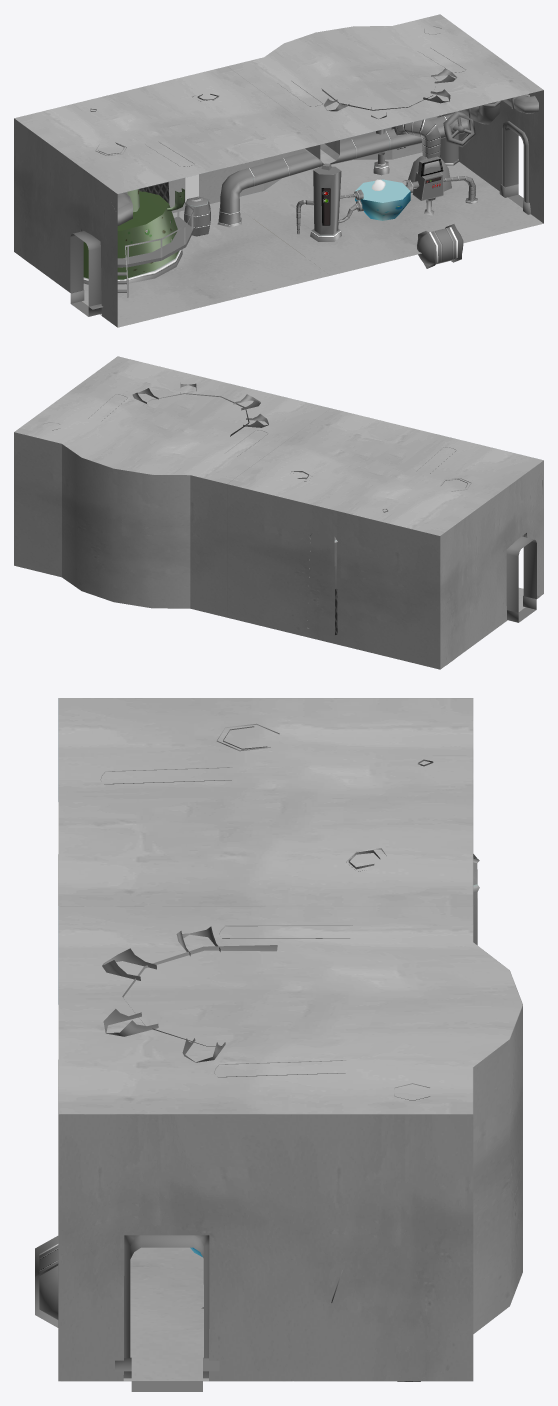
The model's file is MHS_Water_L3_R2_optimized.fbx.
3 views of the same model, one above another, from view 1: azimuth 30°, elevation 25°; view 2: azimuth 150°, elevation 25°; view 3: azimuth 270°, elevation 25° (orthographic). The views are drawn at different scales.
Visible parts, largest first — view 1: lightmap0, lightmap-1, MHS_Water_L3_door, MHS_Water_r2_ani_01; view 2: lightmap0, MHS_Water_L3_door; view 3: lightmap0, MHS_Water_r2_ani_01, MHS_Water_L3_door.
Part boxes in pixels (left/top/right/bottom): lightmap0: left=14, top=14, right=543, bottom=327; lightmap-1: left=83, top=174, right=410, bottom=279; MHS_Water_L3_door: left=70, top=127, right=523, bottom=316; MHS_Water_r2_ani_01: left=417, top=224, right=463, bottom=268; lightmap0: left=14, top=356, right=543, bottom=669; MHS_Water_L3_door: left=506, top=536, right=536, bottom=622; lightmap0: left=58, top=698, right=522, bottom=1381; MHS_Water_r2_ani_01: left=35, top=1236, right=58, bottom=1327; MHS_Water_L3_door: left=130, top=1235, right=203, bottom=1391.
Size of the model in its own units: 20.61 by 7.04 by 9.72.
